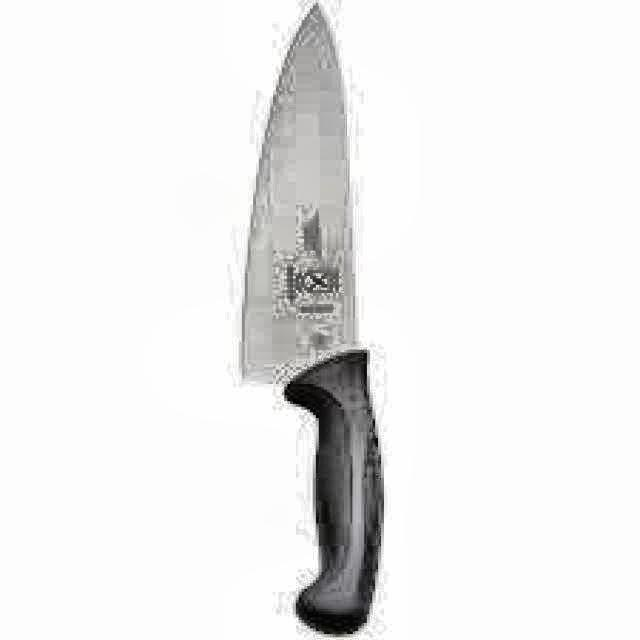knife: (244, 1, 397, 637)
